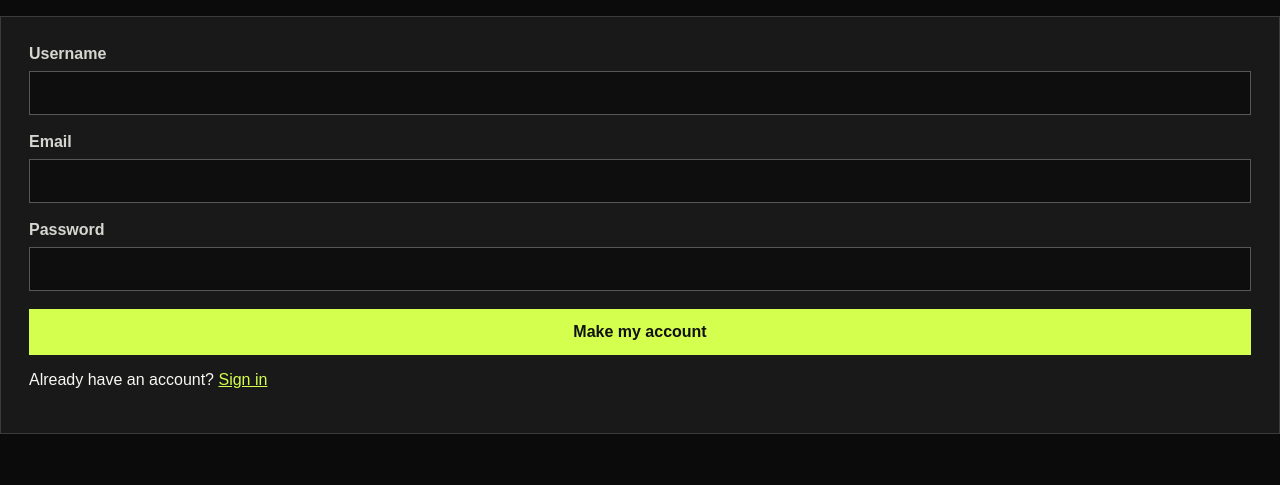
Scenario: AuthForm › restores the form and shows a retry message when sign-up cannot reach the server
Step 1. Type "alice" into the field labelled "Username" → (640, 93), box left=29, top=71, right=1251, bottom=115
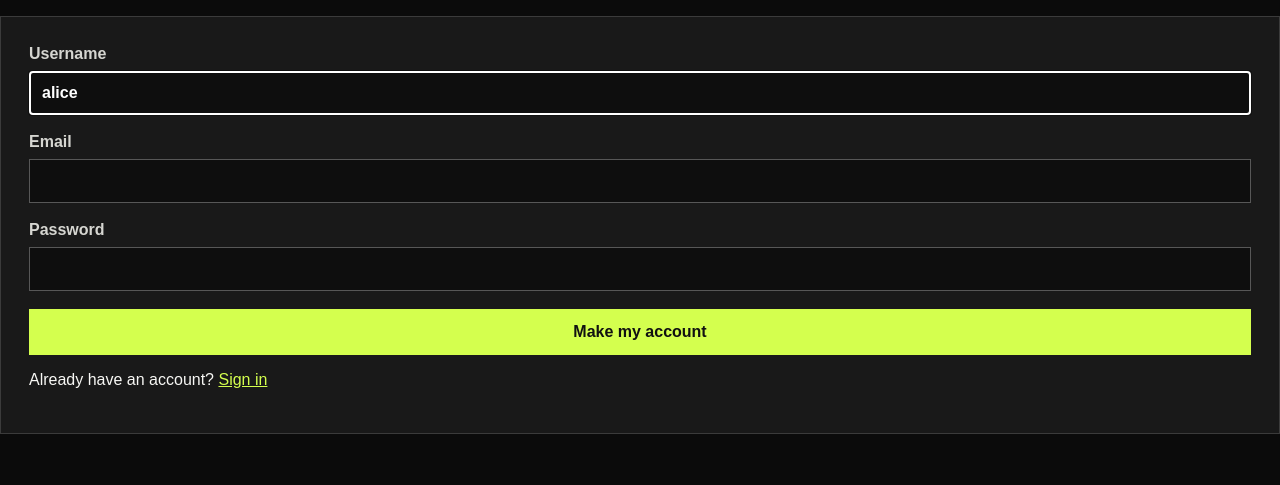
Step 2. Type "alice@example.test" into the field labelled "Email" → (640, 181), box left=29, top=159, right=1251, bottom=203
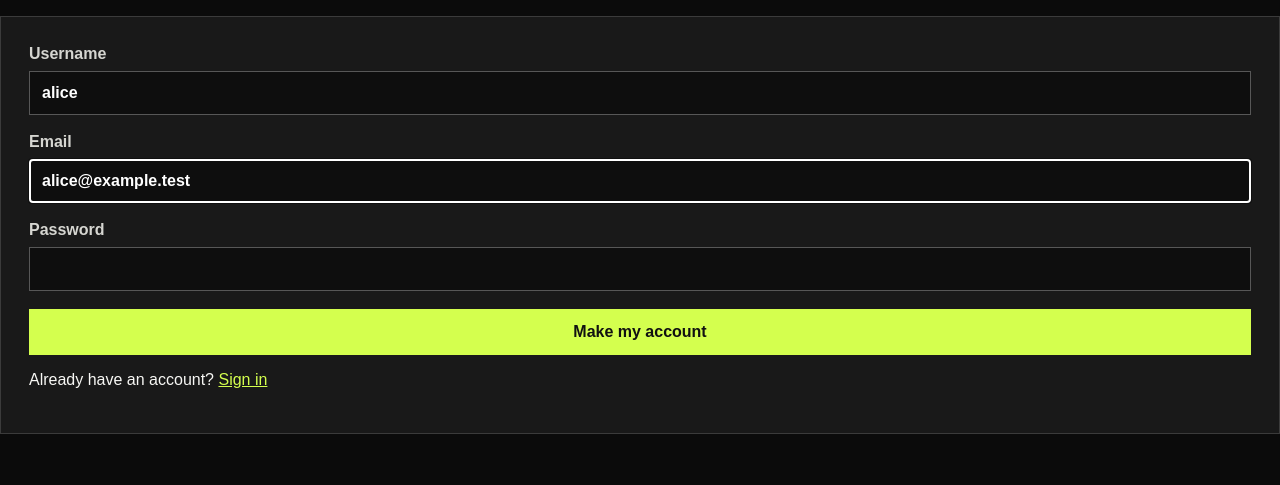
Step 3. Type "a-long-enough-password" into the password field labelled "Password" → (640, 269), box left=29, top=247, right=1251, bottom=291
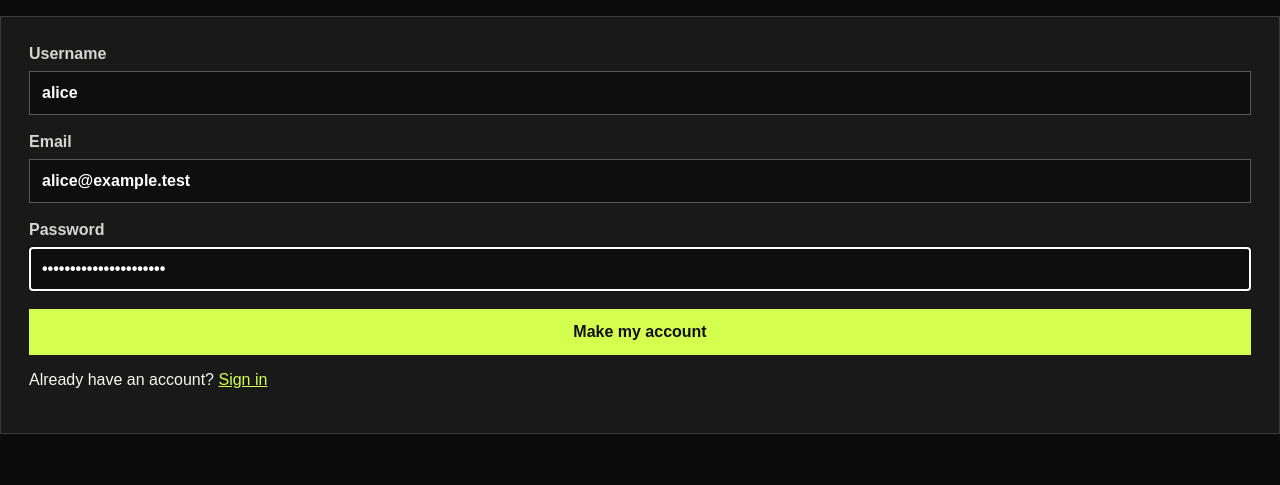
Step 4. Click the button "Make my account" → (640, 332), box left=29, top=309, right=1251, bottom=355
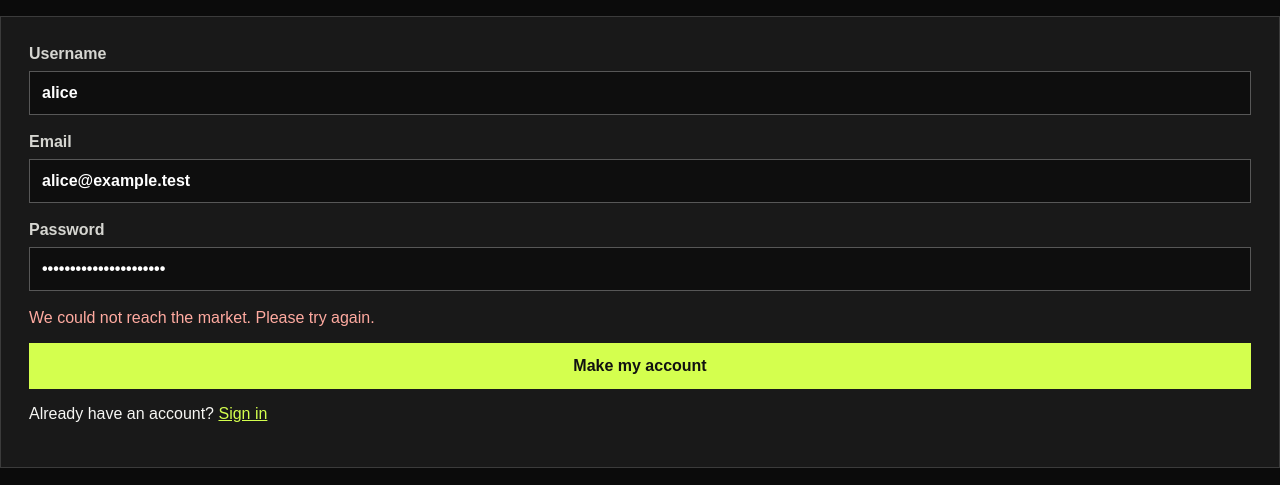
Check: the button "Make my account" is enabled, box left=29, top=343, right=1251, bottom=389
Check: the message reads "We could not reach the market. Please try again.", box left=29, top=309, right=375, bottom=326
